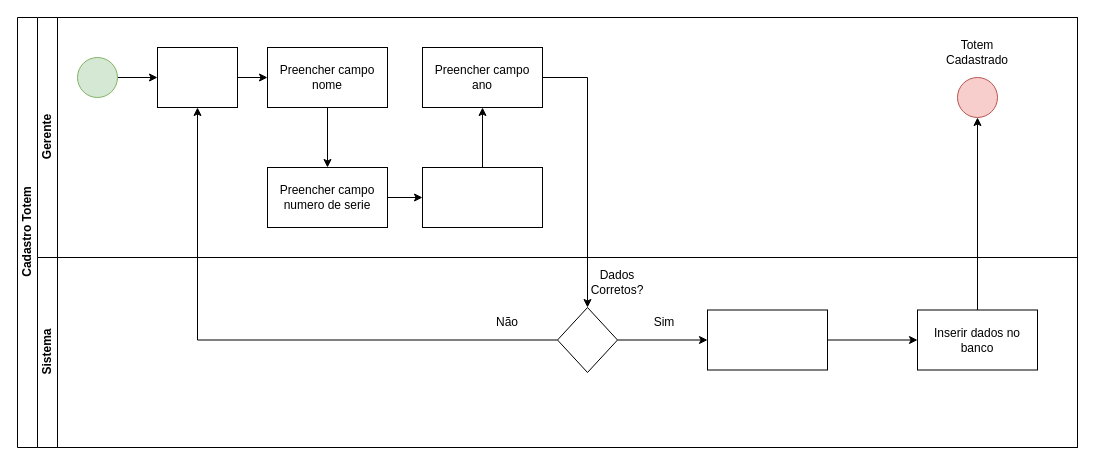
Image size: 1095x465. Some labels were removed from this diagram. The shapes that lost their labels are listed below. From the top down, each one's box as (x1, y1, x2, y2) in pixels, then its label:
(156, 46, 238, 108): Inserir Dados no formulário
(422, 166, 542, 228): Preencher campo fabricante
(706, 309, 828, 370): Capturar Identificador da empresa
